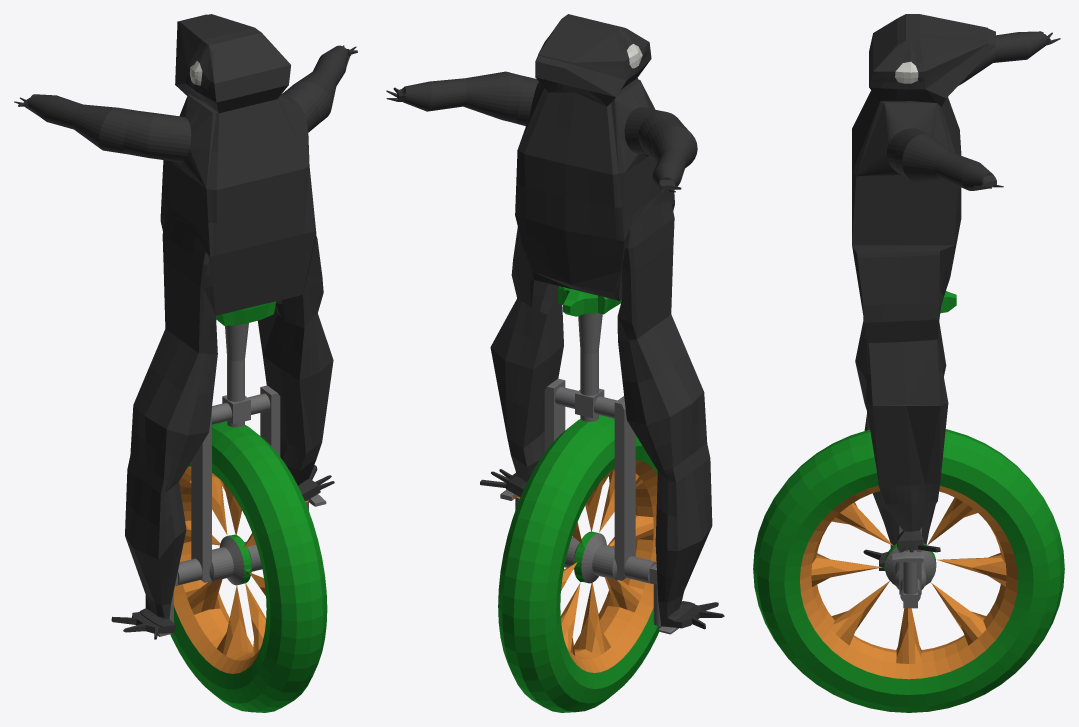
File: DAT BOI3.fbx
The picture shows the model from 3 angles, left to right: view 1: azimuth 30°, elevation 25°; view 2: azimuth 150°, elevation 25°; view 3: azimuth 270°, elevation 25°; orthographic projection. The views are drawn at different scales.
Visible parts, largest first — view 1: Cube.000; view 2: Cube.000; view 3: Cube.000.
Part boxes in pixels (bbox=[...]): Cube.000: bbox=[14, 14, 357, 712]; Cube.000: bbox=[386, 14, 724, 712]; Cube.000: bbox=[753, 14, 1064, 712].
Bounding box in the file's own units: 101 × 206 × 85.31.
